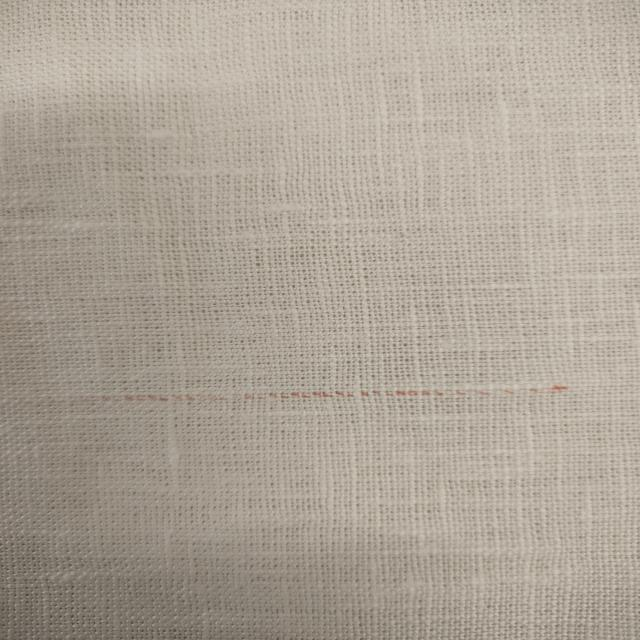Thread_other: (22, 356, 602, 458)
